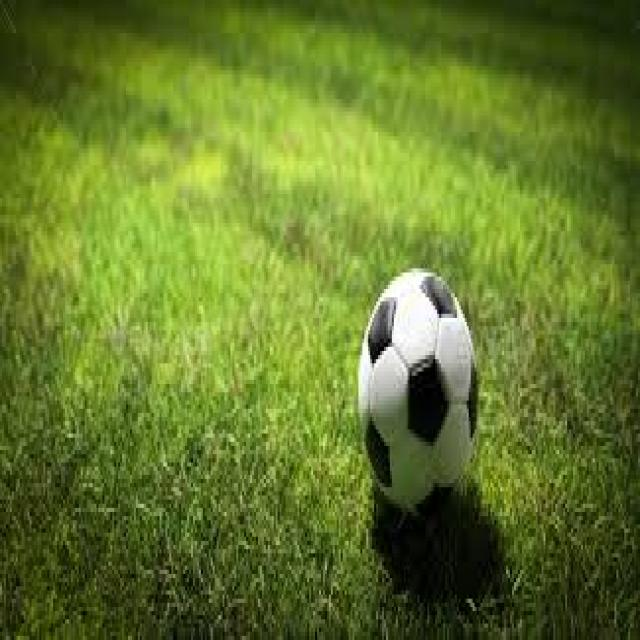football: (362, 269, 478, 516)
